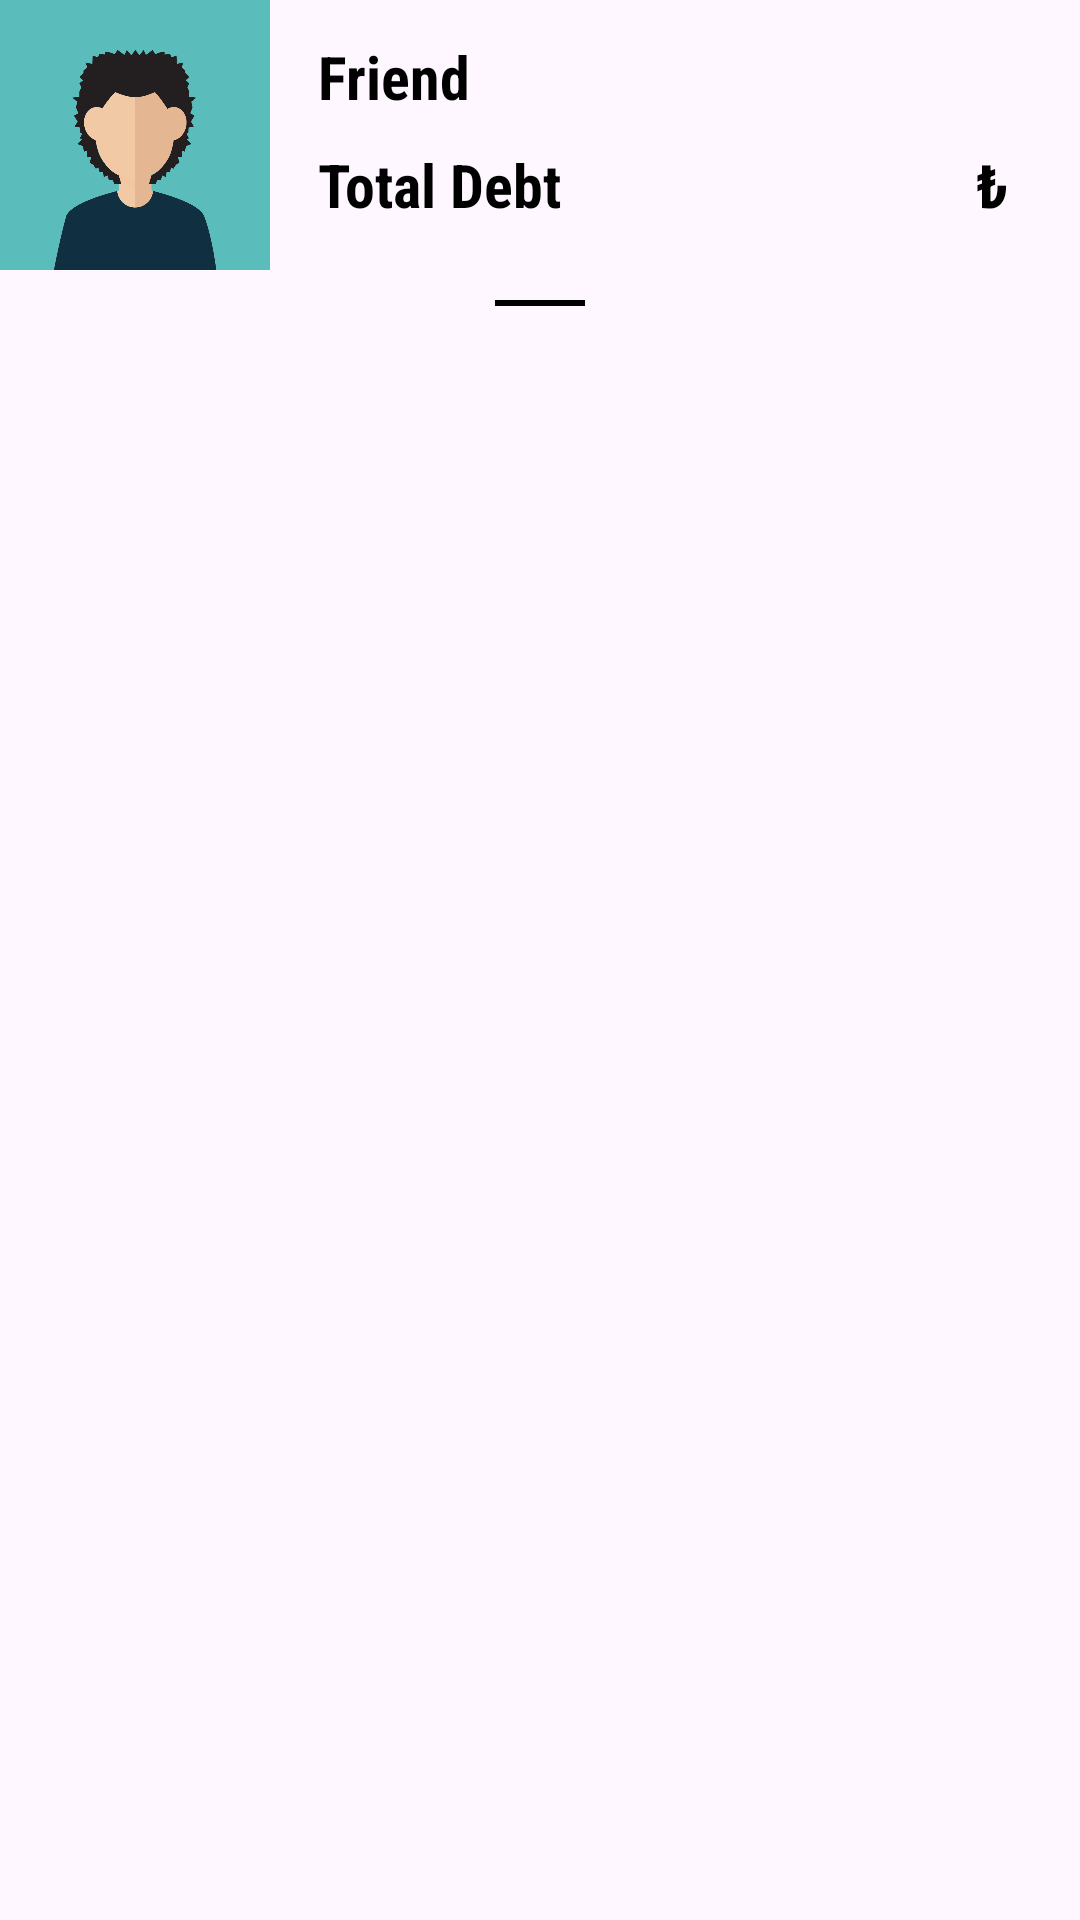

Screen size 1080x1920. Icon name, then its center in pixels as (x=x, y=y):
male: (x=135, y=135)
